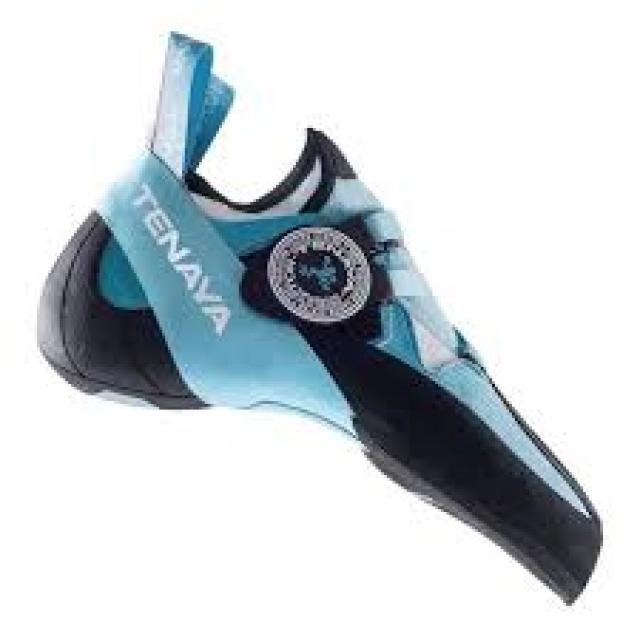climbing-shoes: (29, 118, 605, 606)
